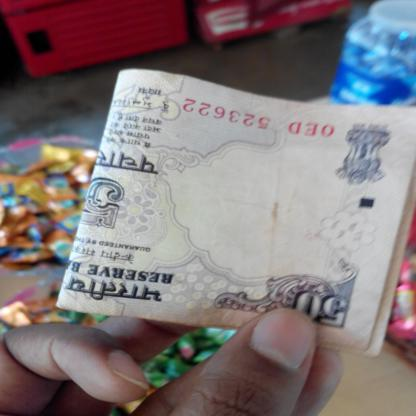Old50Front: (56, 69, 416, 358)
